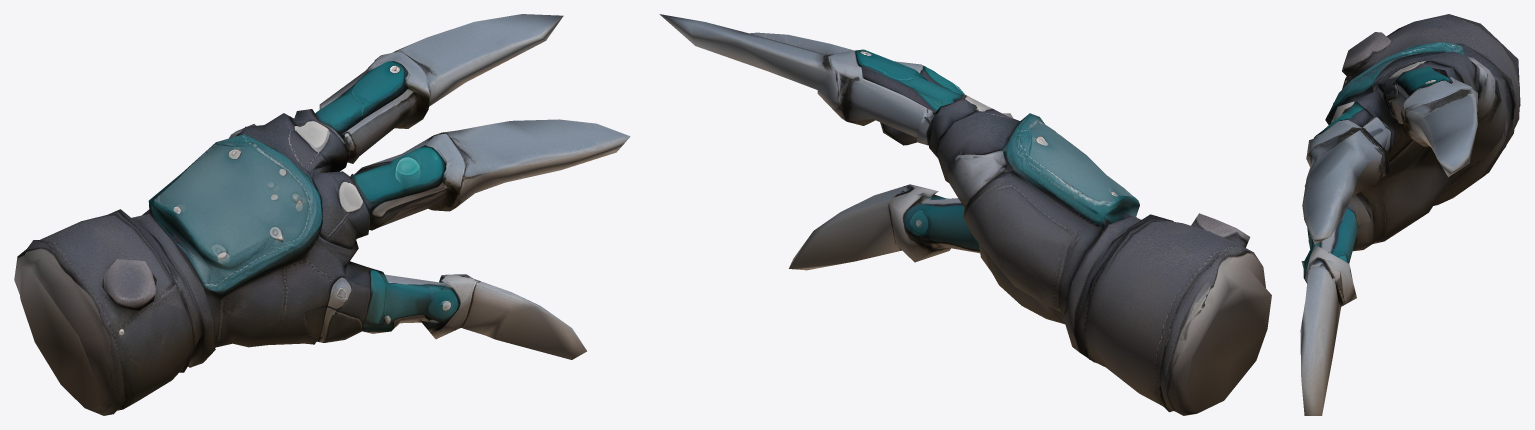
The model's file is weapon_claw_v2_tertiary_1500_raw.glb.
3 renders of one model, left to right at view 1: azimuth 30°, elevation 25°; view 2: azimuth 150°, elevation 25°; view 3: azimuth 270°, elevation 25°, orthographic. The views are drawn at different scales.
Parts seen in each view (by area): view 1: tripo_node_29a014ad-113c-4710-8e7f-1b91e47b9076; view 2: tripo_node_29a014ad-113c-4710-8e7f-1b91e47b9076; view 3: tripo_node_29a014ad-113c-4710-8e7f-1b91e47b9076.
Boxes of the visible parts, x1=… form: tripo_node_29a014ad-113c-4710-8e7f-1b91e47b9076: x1=14, y1=14, x2=630, y2=415; tripo_node_29a014ad-113c-4710-8e7f-1b91e47b9076: x1=659, y1=14, x2=1271, y2=415; tripo_node_29a014ad-113c-4710-8e7f-1b91e47b9076: x1=1300, y1=14, x2=1520, y2=415.
Size of the model in its own units: 0.9882 by 0.5004 by 0.3506.
Materials: 1 (1 with a texture image).
